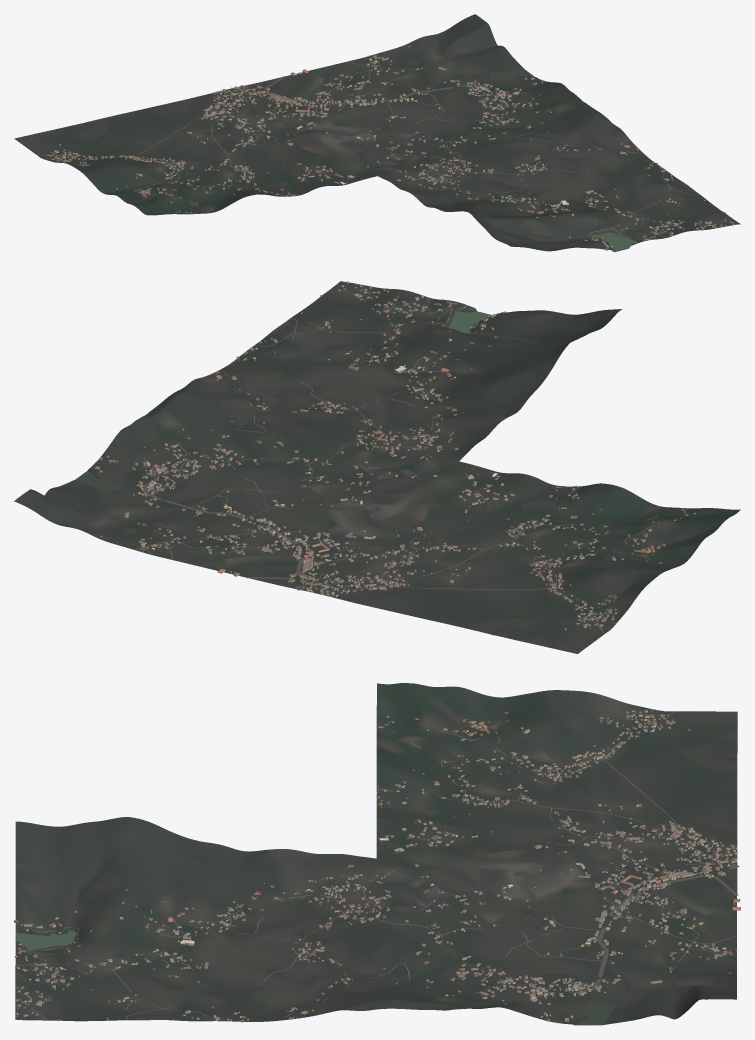
3 renders of one model, top to bottom at view 1: azimuth 30°, elevation 25°; view 2: azimuth 150°, elevation 25°; view 3: azimuth 270°, elevation 25°, orthographic. The views are drawn at different scales.
Parts seen in each view (by area): view 1: ground, buildings, roads, water; view 2: ground, buildings, roads, water; view 3: ground, buildings, roads, water.
Part boxes in pixels (bbox=[...]): ground: bbox=[14, 14, 740, 252]; buildings: bbox=[45, 46, 734, 250]; roads: bbox=[36, 54, 737, 246]; water: bbox=[325, 69, 636, 251]; ground: bbox=[14, 281, 740, 653]; buildings: bbox=[94, 281, 696, 630]; roads: bbox=[94, 281, 688, 633]; water: bbox=[75, 311, 491, 529]; ground: bbox=[15, 683, 737, 1025]; buildings: bbox=[14, 710, 740, 1022]; roads: bbox=[15, 709, 739, 1022]; water: bbox=[15, 871, 617, 1024].
Size of the model in its own units: 2806 by 241 by 2825.
